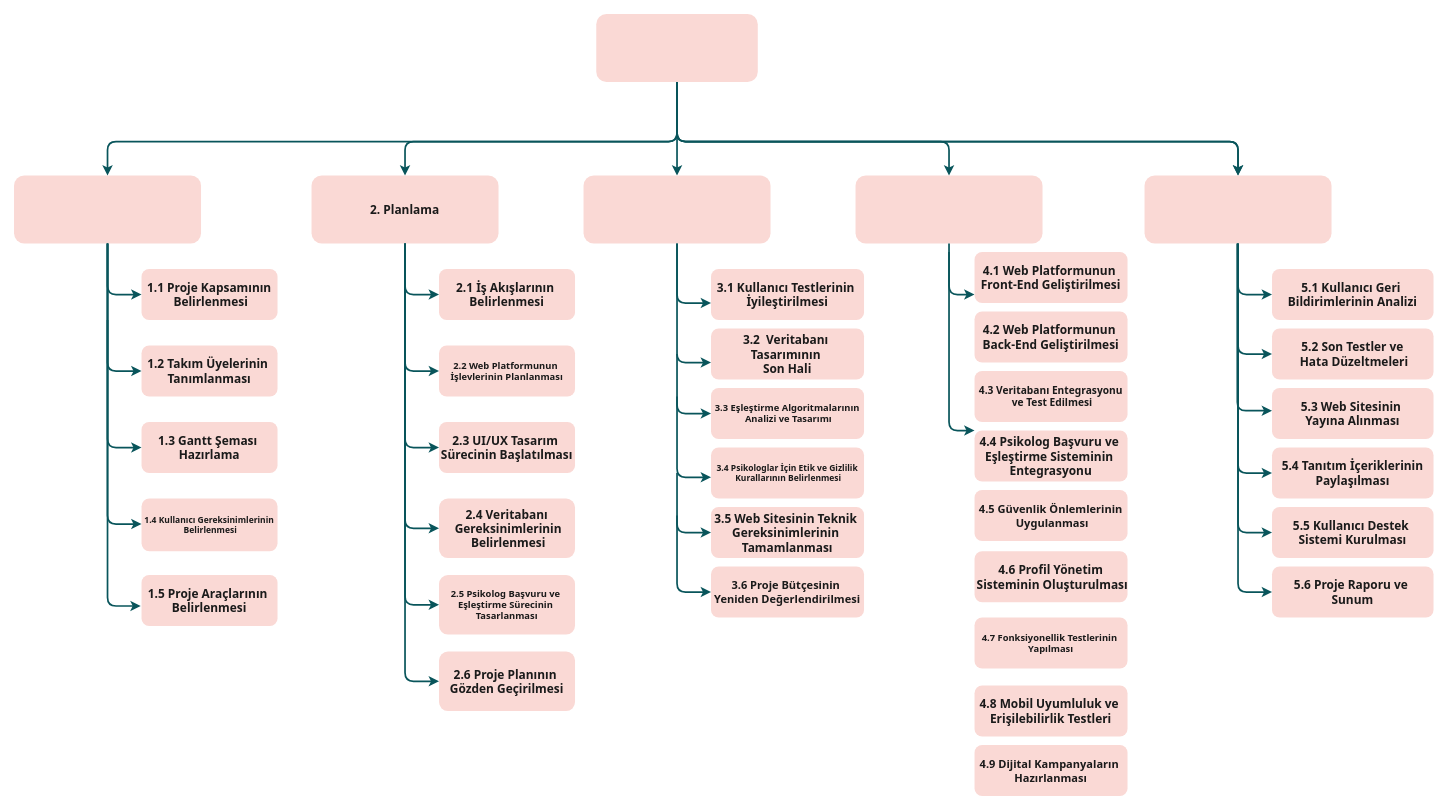
Some shapes in this 1448 by 810 pixel diagram are drawn without their labels. The centre of each missing label's shape, as x and y in pixels:
"1.Proje Stratejisi" goes at point 107,209.
"3. Analiz" goes at point 676,209.
"4. Tasarım" goes at point 948,209.
"5. Uygulama" goes at point 1237,209.
"DESTEK SENİNLE" goes at point 676,48.
